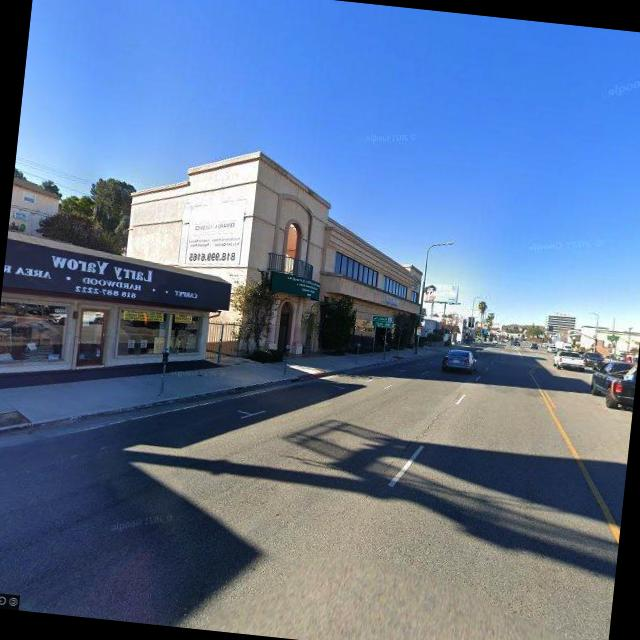crack: (383, 386, 461, 484)
